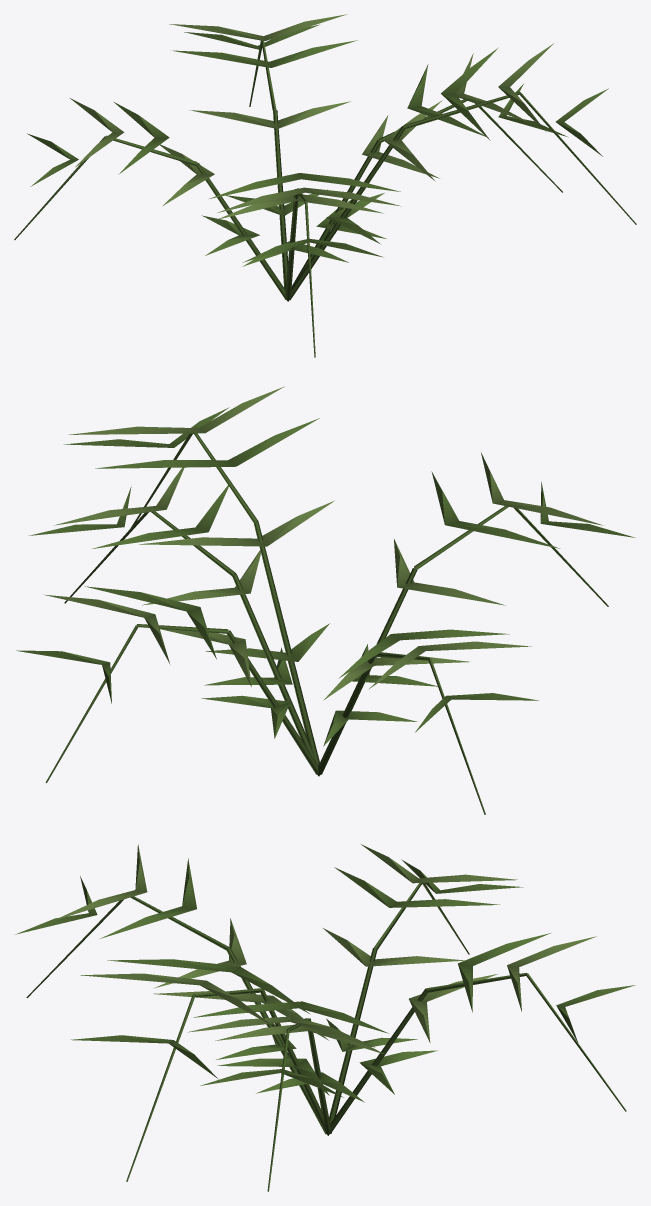
File: woodland_fern_mid.gltf
3 views of the same model, one above another, from view 1: azimuth 30°, elevation 25°; view 2: azimuth 150°, elevation 25°; view 3: azimuth 270°, elevation 25° (orthographic). The views are drawn at different scales.
Parts seen in each view (by area): view 1: woodland_fern_mid; view 2: woodland_fern_mid; view 3: woodland_fern_mid.
Part boxes in pixels (x1,y1,x2,y2): woodland_fern_mid: (14,14,636,357); woodland_fern_mid: (16,386,635,814); woodland_fern_mid: (15,844,635,1191).
Bounding box in the file's own units: 1.47 × 0.6277 × 1.46.
2 materials, 2 textured.
